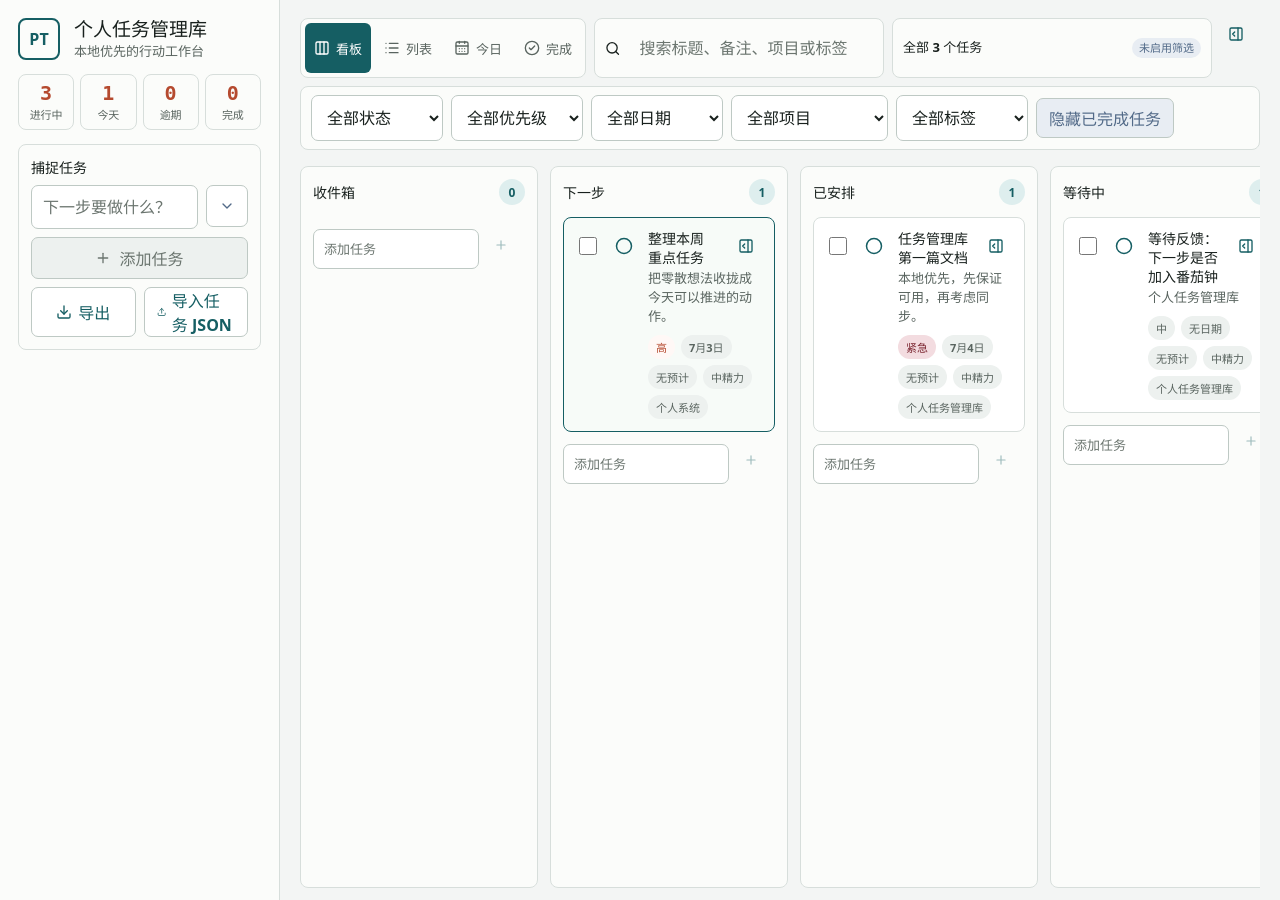
it: TaskWorkspace › announces task text literally without displaying HTML entities
Type "<审查 & 修复>" into the field named "任务标题" at {"x": 114, "y": 207}, box [31, 185, 198, 229]
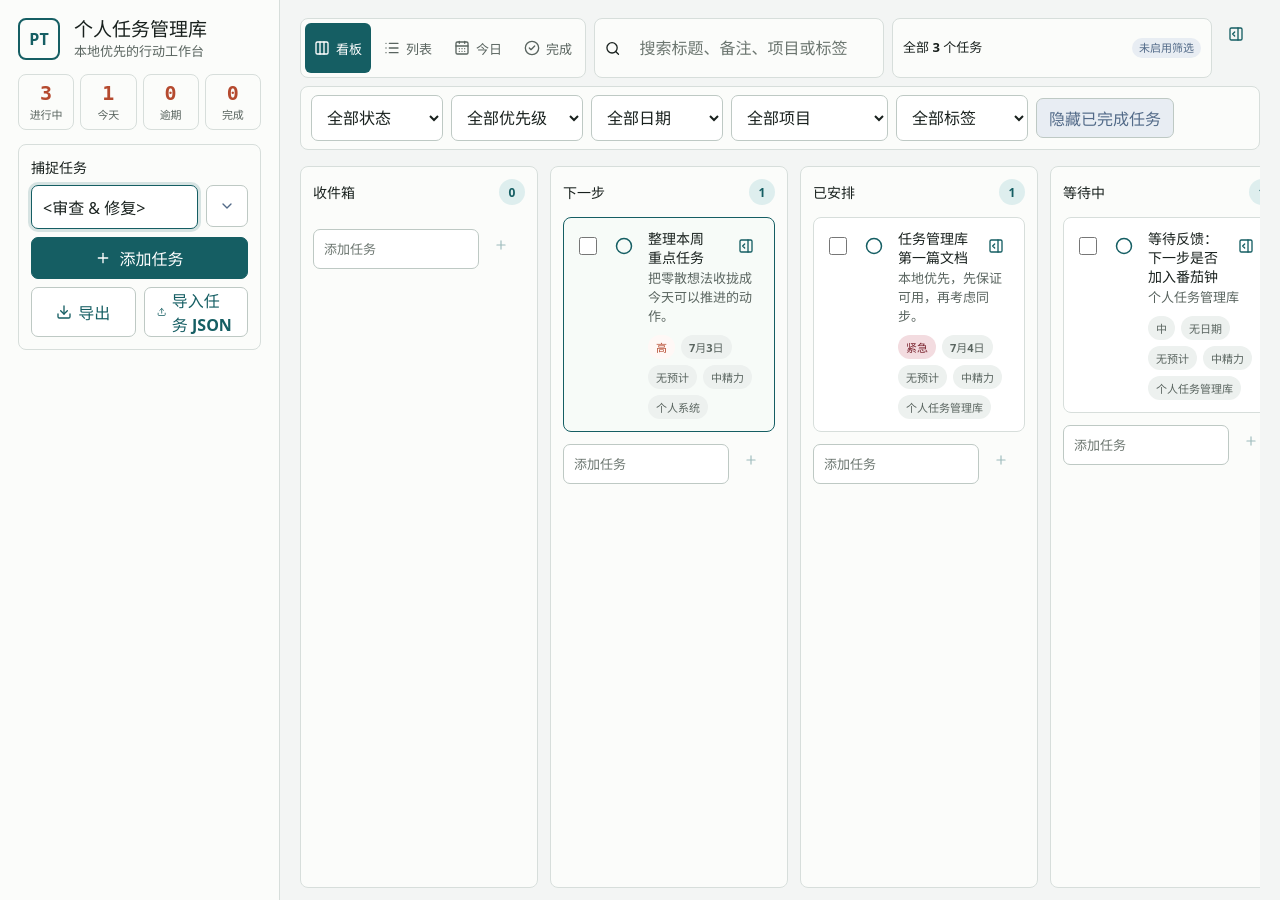
Click the button "添加任务" at {"x": 140, "y": 258}, box [31, 237, 248, 279]
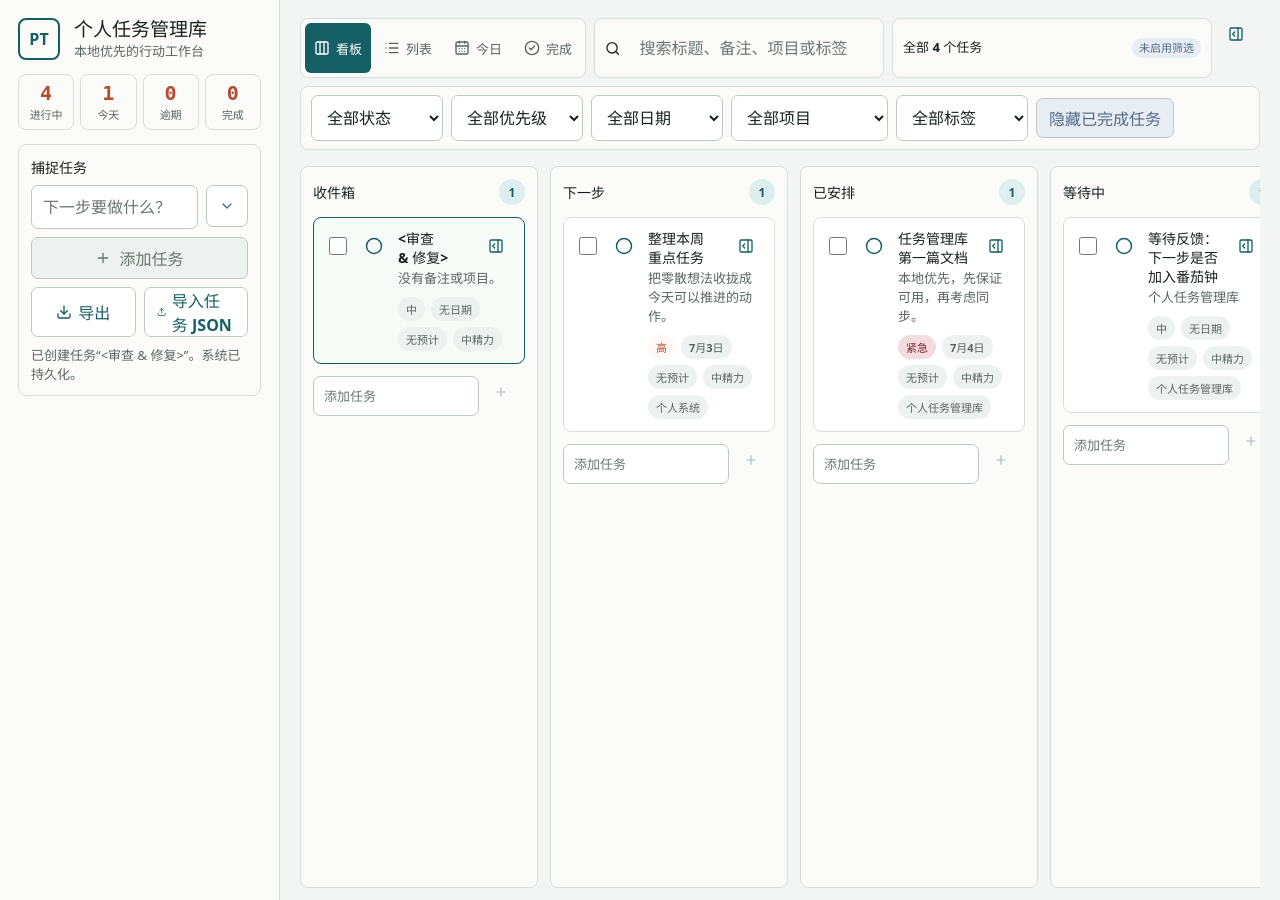
Expected: the message reads "已创建任务“<审查 & 修复>”。系统已持久化。", [31, 346, 240, 383]
